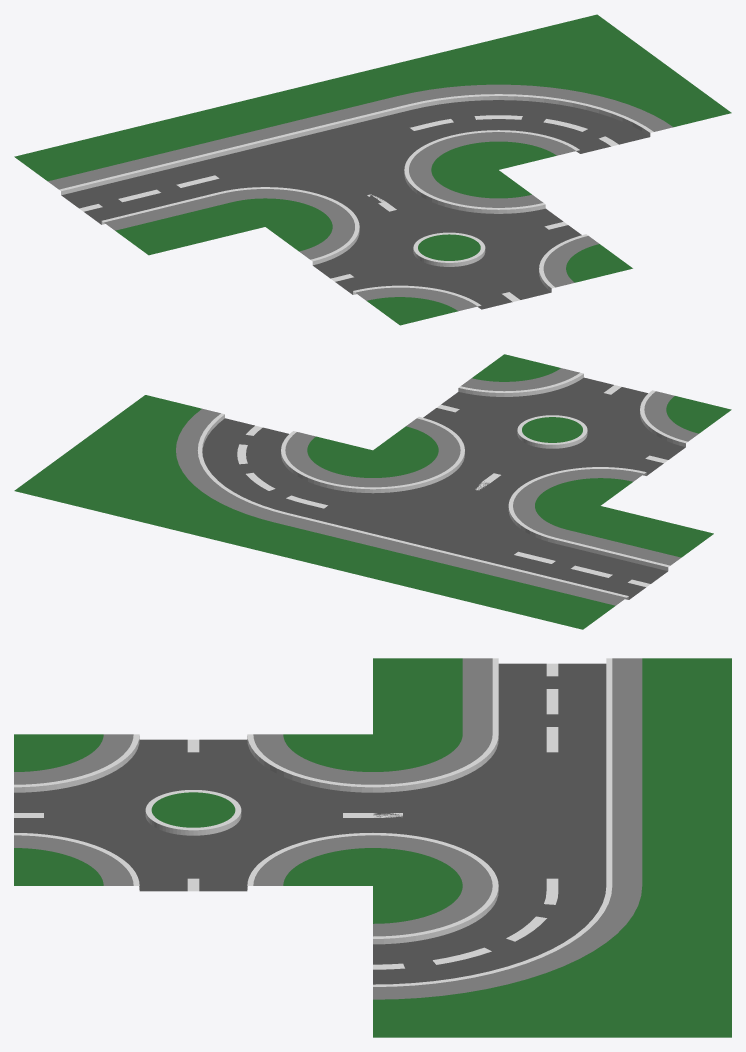
File: Streetpack.fbx
3 renders of one model, top to bottom at view 1: azimuth 30°, elevation 25°; view 2: azimuth 150°, elevation 25°; view 3: azimuth 270°, elevation 25°, orthographic. The views are drawn at different scales.
Visible parts, largest first — view 1: Curve, T-Crossing, Crossing, Straight; view 2: Crossing, Curve, T-Crossing, Straight; view 3: Crossing, T-Crossing, Curve, Straight.
Part boxes in pixels (x1,y1,x2,y2): Curve: (364, 14, 731, 169); T-Crossing: (131, 71, 497, 226); Crossing: (266, 170, 632, 325); Straight: (14, 128, 264, 255); Crossing: (373, 354, 731, 505); Curve: (14, 395, 372, 546); T-Crossing: (242, 450, 599, 601); Straight: (470, 506, 713, 629); Crossing: (14, 734, 372, 891); T-Crossing: (373, 734, 731, 891); Curve: (373, 886, 731, 1037); Straight: (373, 658, 731, 739).
Bounding box in the file's own units: 15000 × 100 × 12000.
